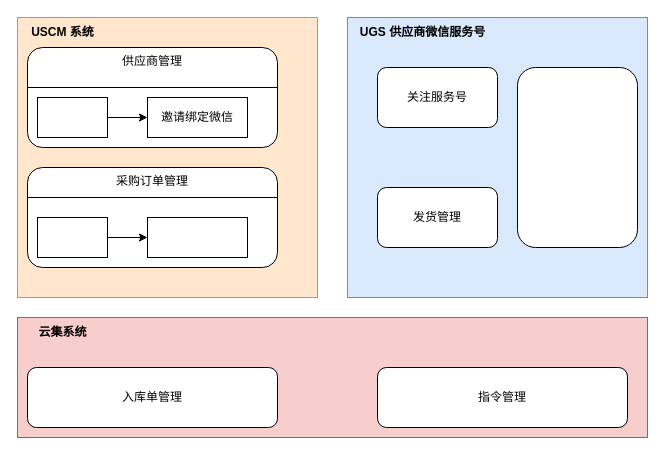
Image size: 665x455. Some labels were removed from this diagram. Each missing label, with the centre of its shape:
"供应商录入" goes at [72,117].
"分享订单二维码" goes at [197,237].
"订单创建" goes at [72,237].
"订单消息推送" goes at [577,157].
